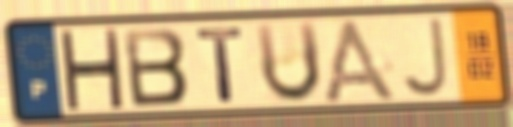A: (317, 15, 402, 104)
B: (120, 26, 191, 110)
H: (56, 27, 126, 111)
J: (397, 15, 451, 100)
T: (194, 24, 248, 104)
U: (252, 18, 325, 107)
